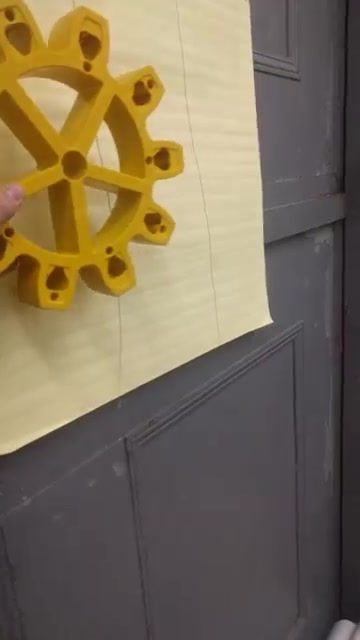gear: (1, 1, 182, 304)
